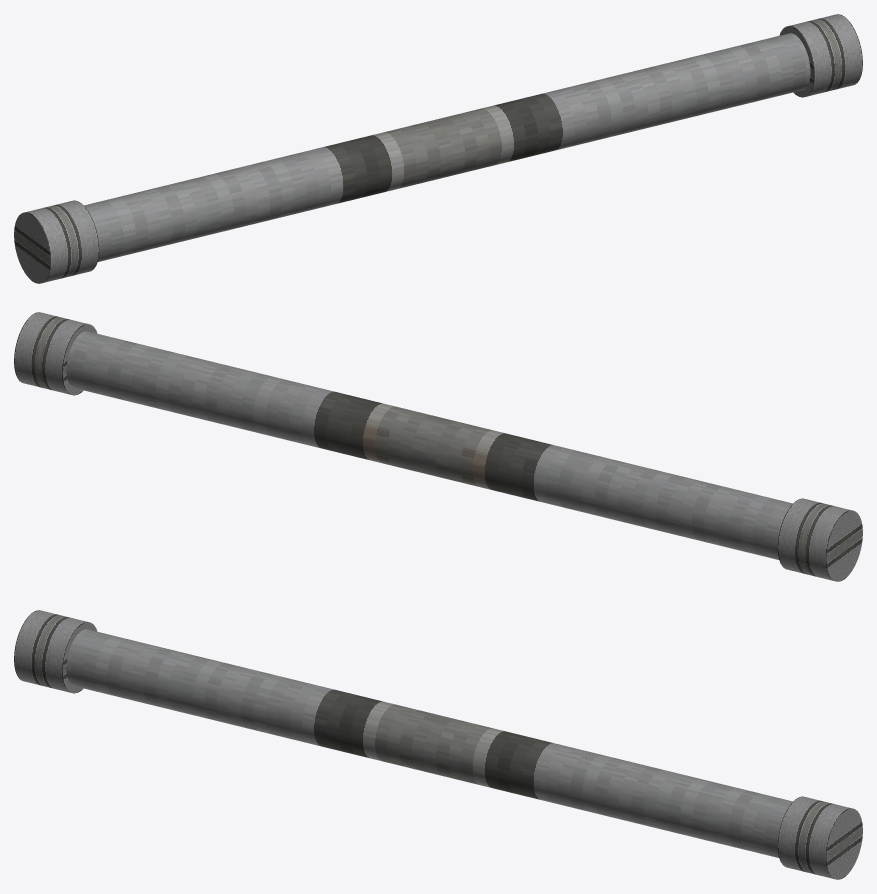
Rendered from panic-bar.glb.
3 renders of one model, top to bottom at view 1: azimuth 30°, elevation 25°; view 2: azimuth 150°, elevation 25°; view 3: azimuth 330°, elevation 25°, orthographic.
Parts seen in each view (by area): view 1: barrel, flange (×2); view 2: barrel, flange (×2); view 3: barrel, flange (×2).
Part boxes in pixels (<box>): barrel: <box>84,33,810,261</box>; flange (×2): <box>14,14,862,283</box>; barrel: <box>66,331,792,559</box>; flange (×2): <box>14,312,862,581</box>; barrel: <box>66,629,792,857</box>; flange (×2): <box>14,610,862,879</box>.
Size of the model in its own units: 0.64 by 0.05 by 0.05.
Materials: 1 (1 with a texture image).
